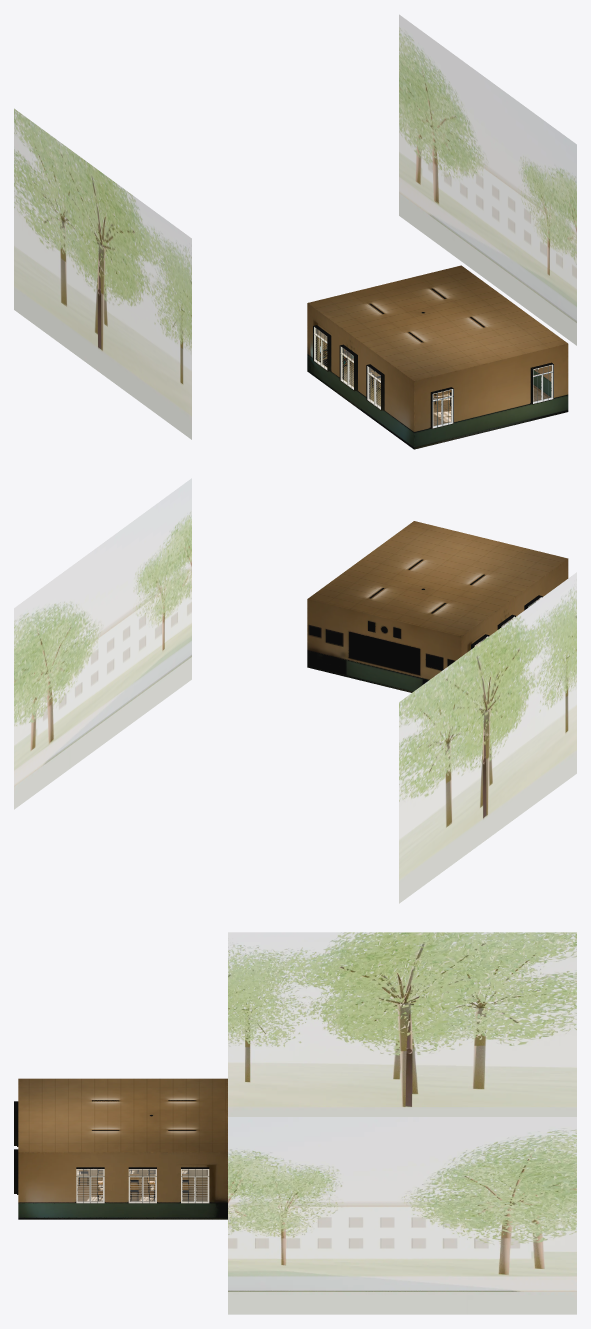
The model's file is classroom.glb.
3 views of the same model, one above another, from view 1: azimuth 30°, elevation 25°; view 2: azimuth 150°, elevation 25°; view 3: azimuth 270°, elevation 25° (orthographic).
Parts seen in each view (by area): view 1: Exterior_Backdrop_R, Exterior_Backdrop_L, Room_Shell; view 2: Exterior_Backdrop_L, Exterior_Backdrop_R, Room_Shell; view 3: Exterior_Backdrop_R, Exterior_Backdrop_L, Room_Shell, Window_Glass, Desks.
Part boxes in pixels (x1=…): Exterior_Backdrop_R: x1=399, y1=14, x2=576, y2=345; Exterior_Backdrop_L: x1=14, y1=108, x2=191, y2=439; Room_Shell: x1=307, y1=265, x2=568, y2=449; Exterior_Backdrop_L: x1=399, y1=572, x2=576, y2=903; Exterior_Backdrop_R: x1=14, y1=478, x2=191, y2=809; Room_Shell: x1=307, y1=521, x2=568, y2=692; Exterior_Backdrop_R: x1=228, y1=1117, x2=576, y2=1314; Exterior_Backdrop_L: x1=228, y1=932, x2=576, y2=1116; Room_Shell: x1=14, y1=1078, x2=227, y2=1219; Window_Glass: x1=77, y1=1170, x2=207, y2=1200; Desks: x1=79, y1=1169, x2=189, y2=1200.
Bounding box in the file's own units: 20 × 10 × 25.8.
Materials: 15 (13 with a texture image).
